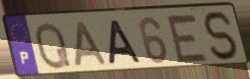6: (137, 14, 170, 66)
A: (107, 18, 144, 66), (73, 20, 109, 69)
E: (164, 13, 211, 65)
Q: (33, 21, 74, 72)
S: (201, 10, 242, 63)
